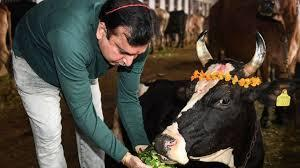cow: (150, 29, 300, 168), (208, 0, 300, 85), (166, 8, 187, 49), (151, 6, 170, 49)
